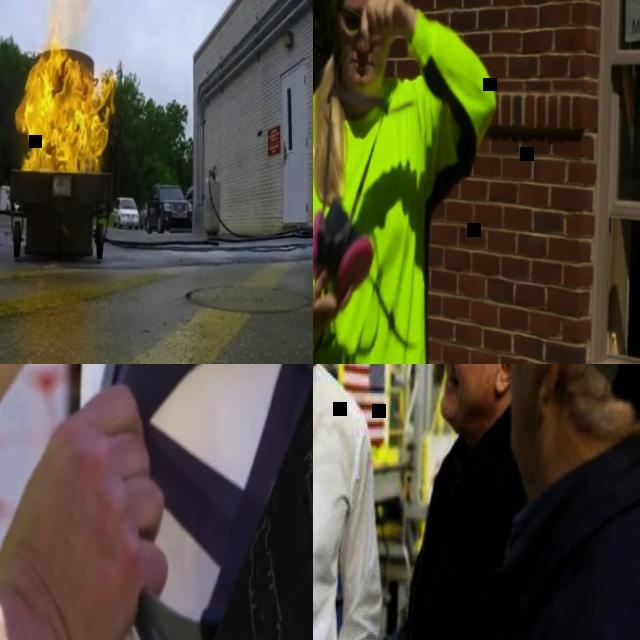Hardhat: (71, 364, 313, 640)
Mask: (313, 193, 374, 303)
NO-Mask: (439, 364, 498, 428), (506, 364, 539, 465), (338, 43, 384, 94)
NO-Safety Vest: (313, 74, 432, 364), (453, 487, 640, 640), (400, 437, 524, 640), (313, 364, 363, 640)
Person: (313, 0, 498, 364), (0, 364, 193, 640), (457, 364, 640, 640), (375, 364, 533, 640), (313, 364, 395, 640)
vehicle: (146, 181, 193, 232), (113, 195, 140, 228), (6, 195, 21, 214), (186, 184, 194, 209), (139, 203, 146, 228)
